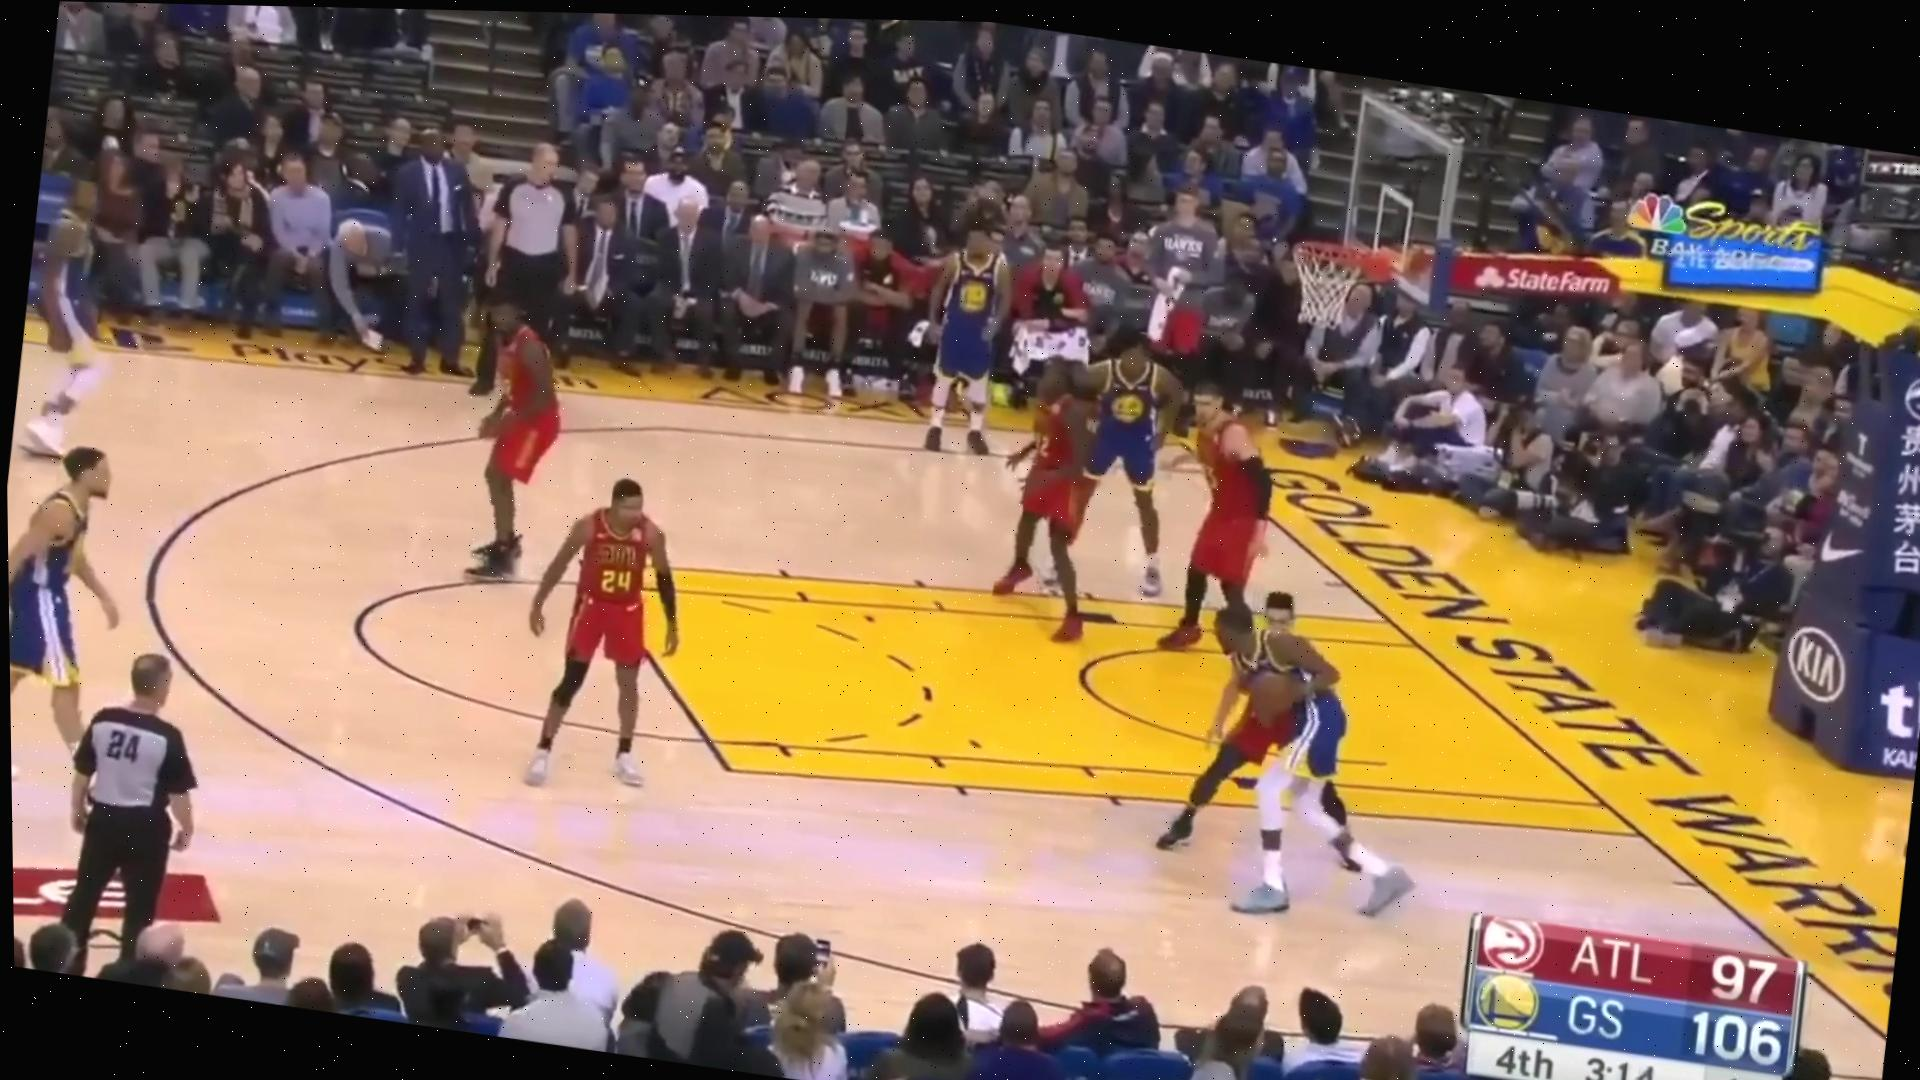no_foul: (1153, 570, 1453, 940)
